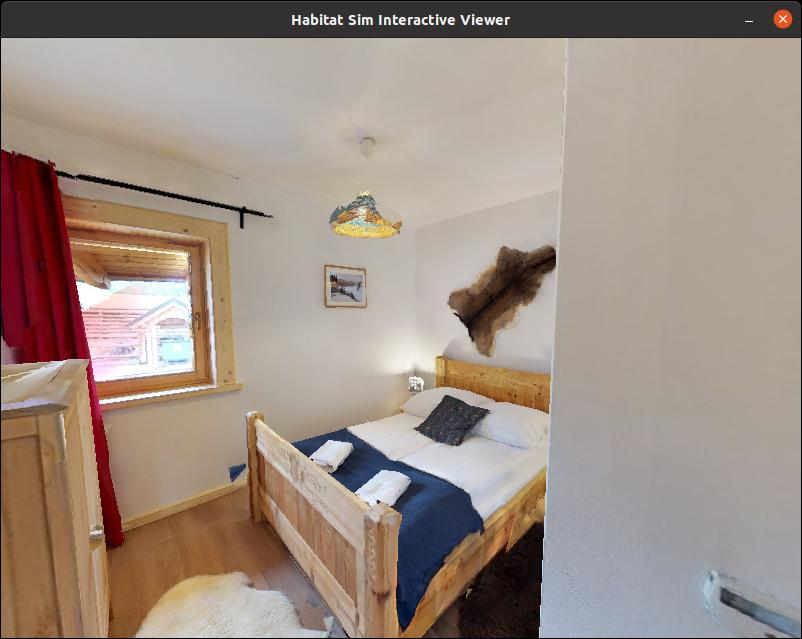bed: (235, 339, 598, 632)
